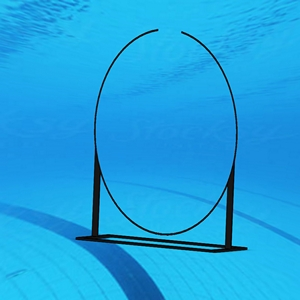circle: (74, 26, 251, 256)
